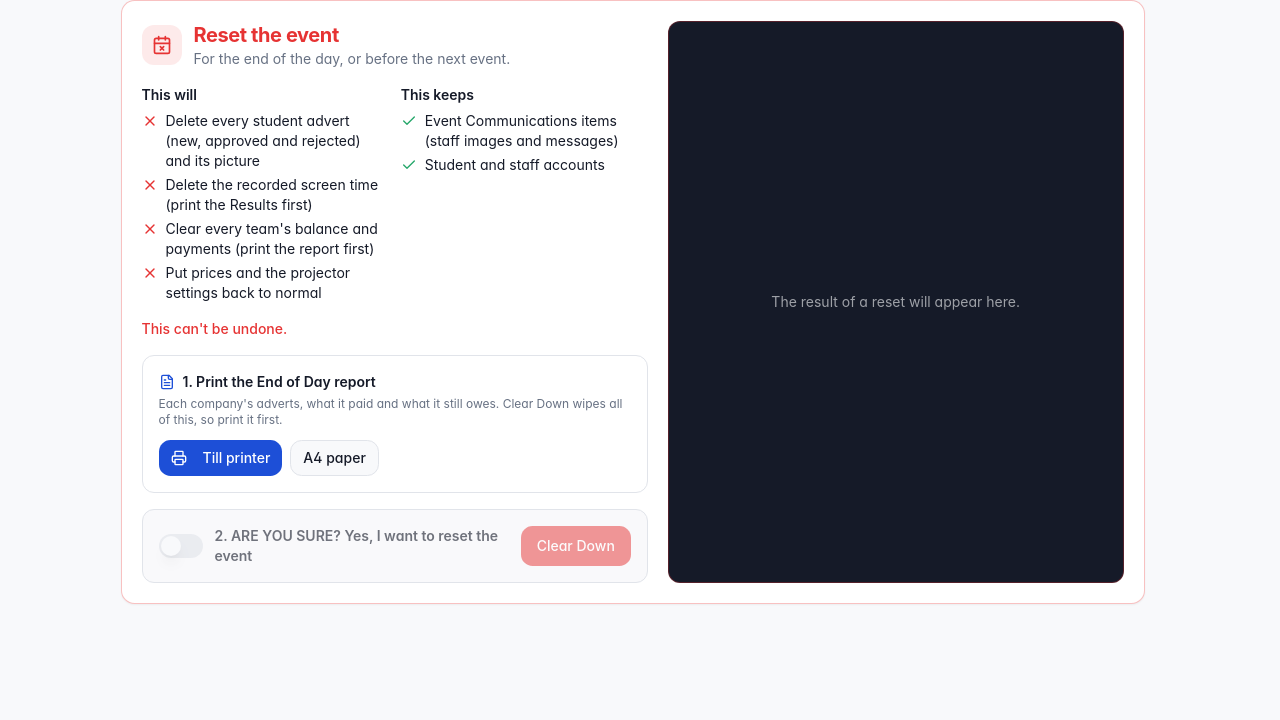
Test case: EventResetPanel (issue #34) › keeps Clear Down disabled until the switch is flipped
Click the button "Till printer": x=220, y=458 x1=158 y1=440 x2=282 y2=476
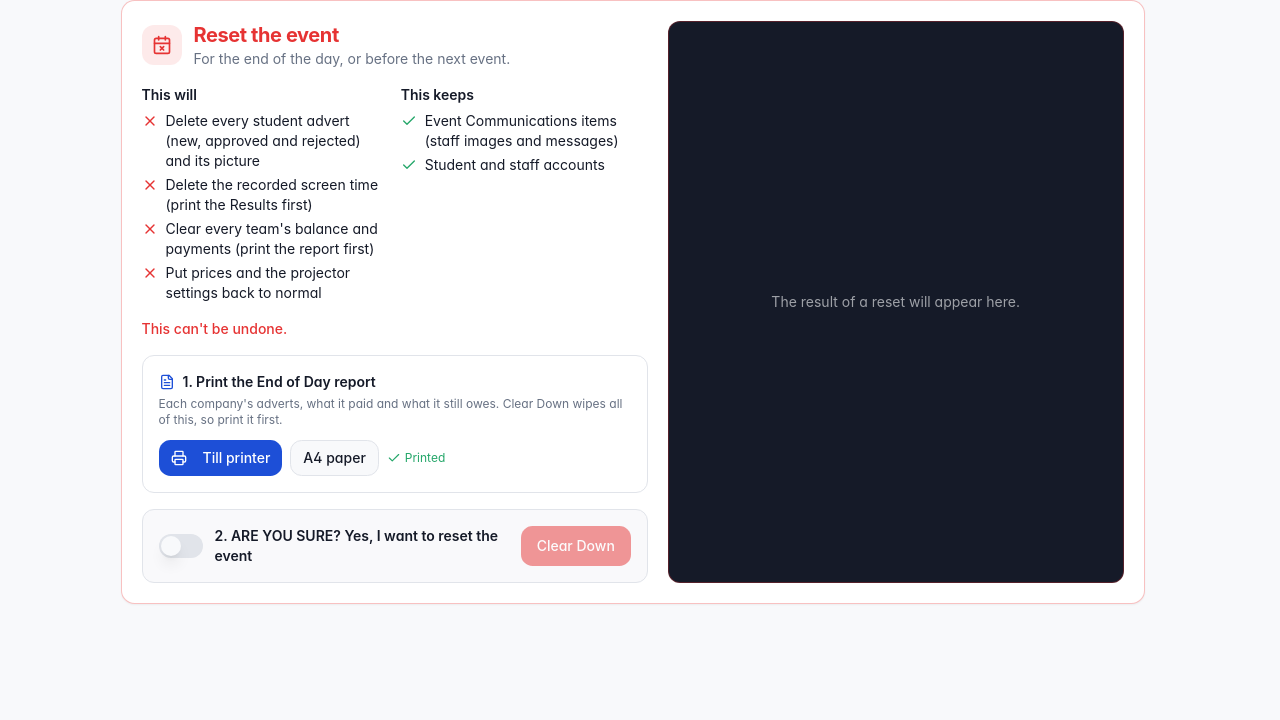
expect the button "Clear Down" is disabled: met, box x1=521 y1=526 x2=631 y2=566
Click the switch named "reset the event": x=180, y=546 x1=158 y1=534 x2=202 y2=558
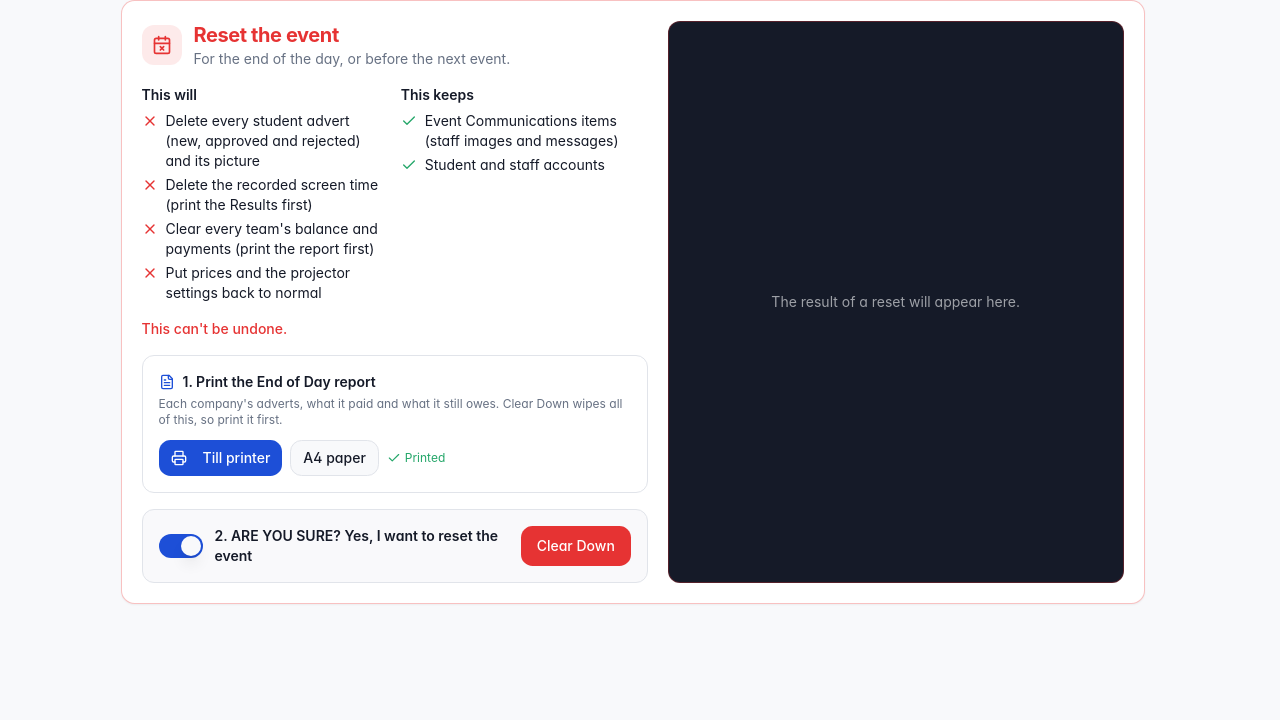
expect the button "Clear Down" is enabled: met, box x1=521 y1=526 x2=631 y2=566
Click the switch named "reset the event": x=180, y=546 x1=158 y1=534 x2=202 y2=558
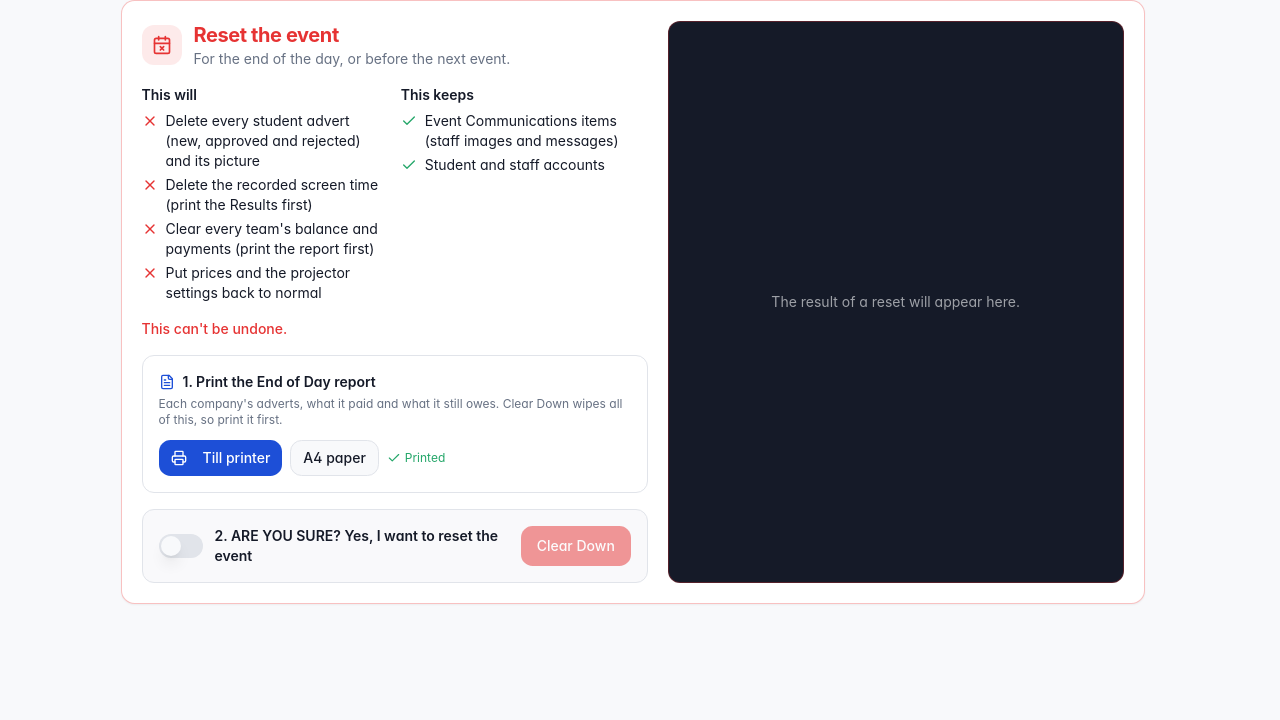
expect the button "Clear Down" is disabled: met, box x1=521 y1=526 x2=631 y2=566
